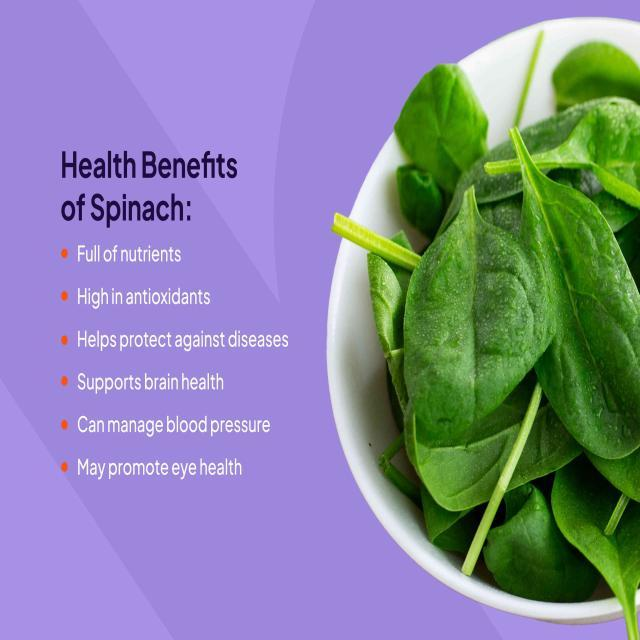Spinach: (343, 20, 640, 630)
